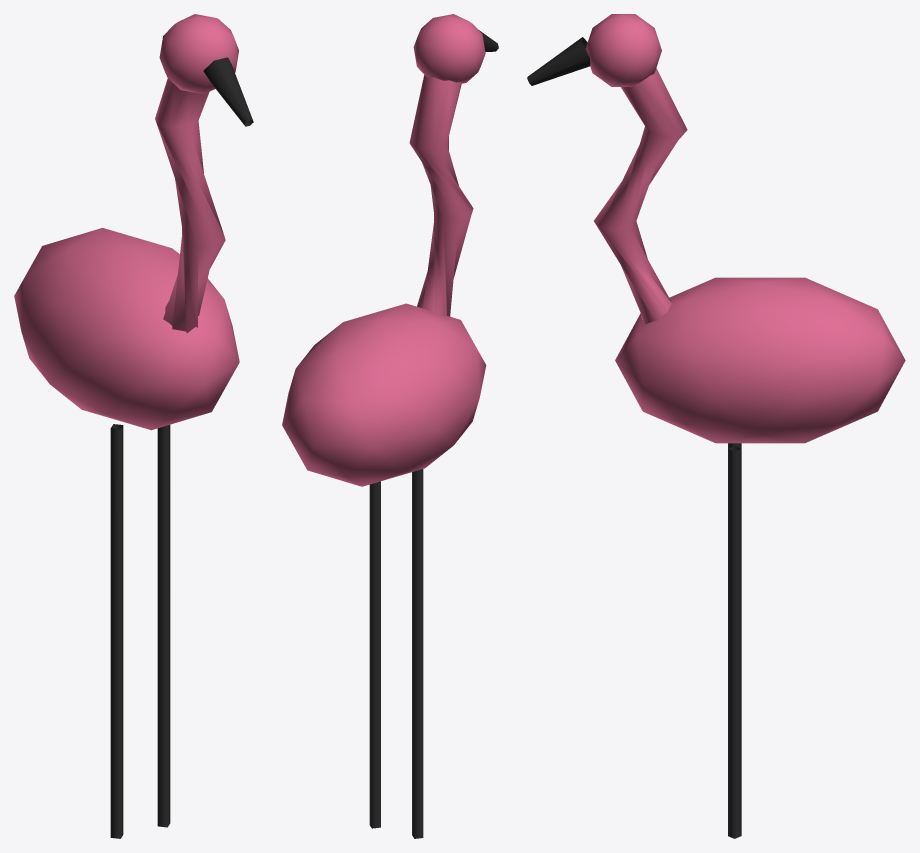
Rendered from furn_dp_flamingo.glb.
3 renders of one model, left to right at view 1: azimuth 30°, elevation 25°; view 2: azimuth 150°, elevation 25°; view 3: azimuth 270°, elevation 25°, orthographic. The views are drawn at different scales.
Parts seen in each view (by area): view 1: furn_dp_flamingo_main; view 2: furn_dp_flamingo_main; view 3: furn_dp_flamingo_main.
Part boxes in pixels (x1,y1,x2,y2): furn_dp_flamingo_main: [14, 14, 253, 838]; furn_dp_flamingo_main: [282, 14, 498, 838]; furn_dp_flamingo_main: [527, 14, 905, 838].
Size of the model in its own units: 0.2092 by 1.04 by 0.4426.
